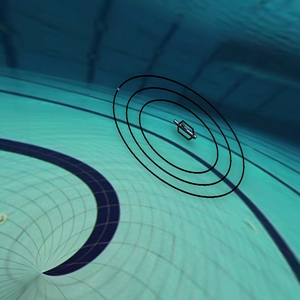circle: (106, 62, 254, 209)
submarine: (156, 109, 203, 151)
